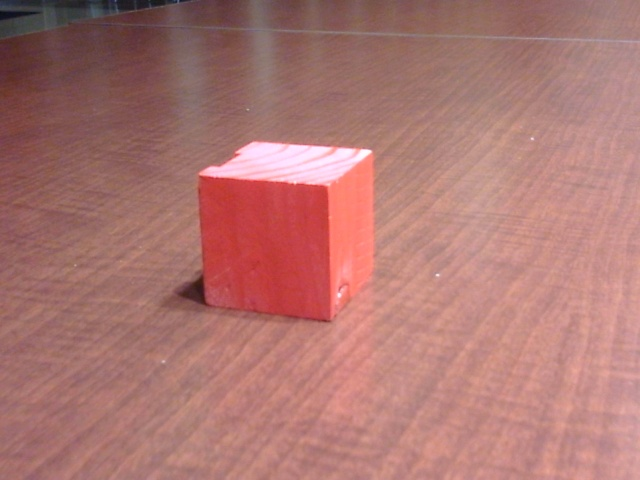RedBlock: (197, 174, 350, 321)
